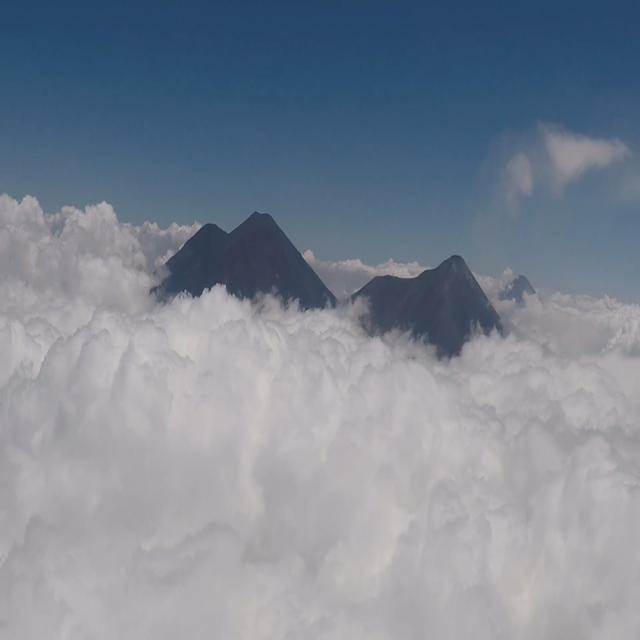Summit: (416, 250, 476, 293)
